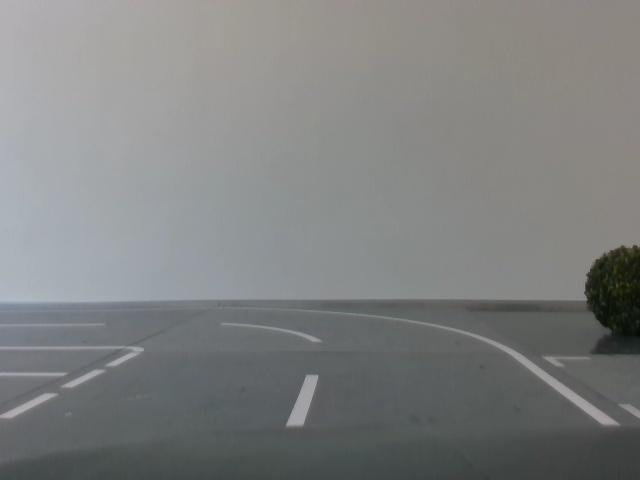potted plant: (584, 241, 640, 351)
